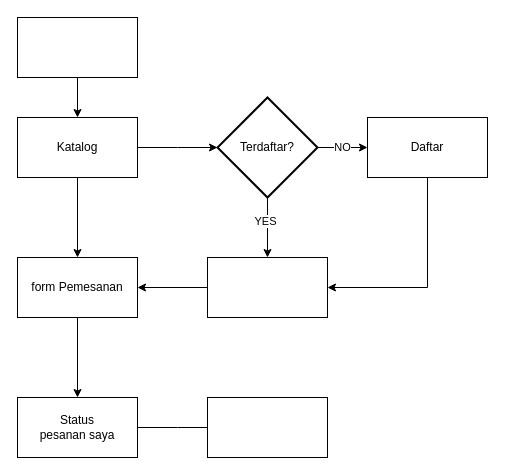
The diagram is 505 pixels wide and 475 high, and some of its shapes have lost their labels. Each missing label, with the box of its shape:
Beranda: (16, 16, 138, 78)
Detail pesanan (request, diproses, selesai): (206, 396, 328, 458)
login: (206, 256, 328, 318)
